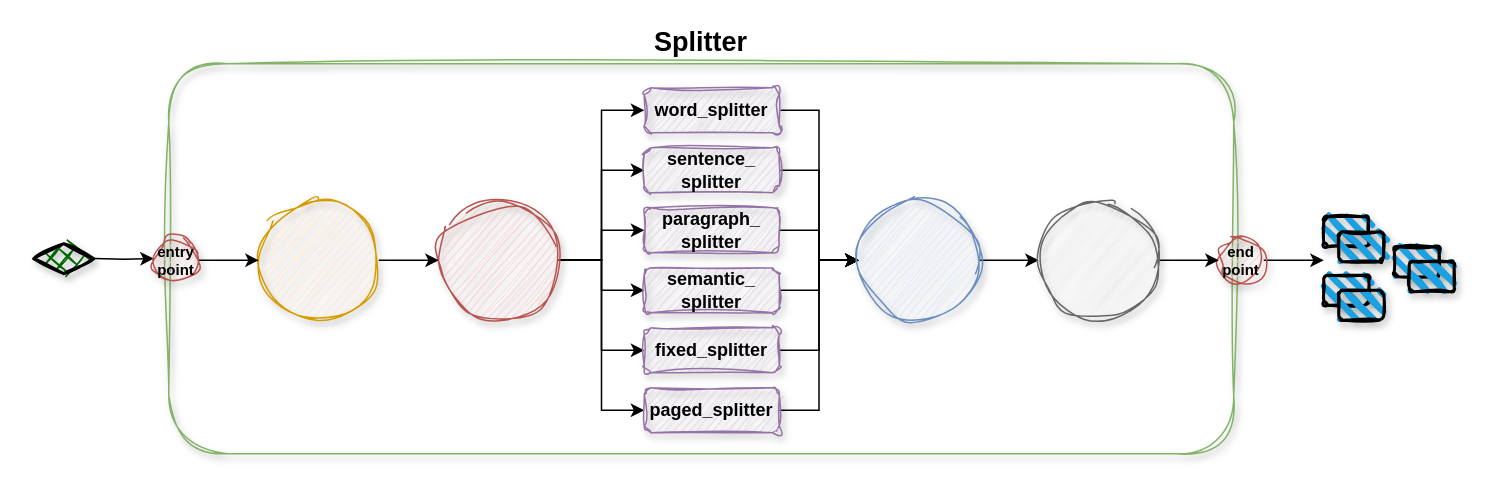
The diagram is 1490 pixels wide and 491 high, and some of its shapes have lost their labels. Each missing label, with the centre of its shape:
Chunk Manager: the point at 919,262
Read Manager: the point at 319,262
Save Manager: the point at 1099,262
Split Manager: the point at 499,262
